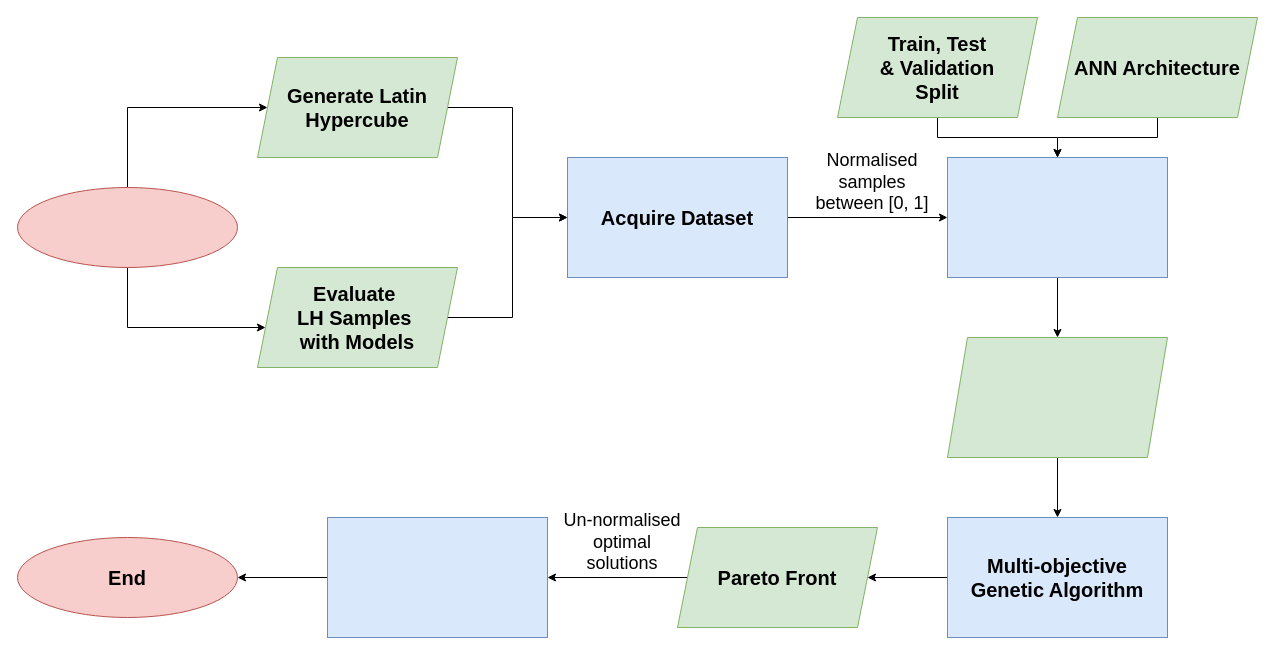
Some shapes in this 1275 by 655 pixel diagram are drawn without their labels. The shapes that lost their labels are listed below. From the top down, each one's centre as x and y in pixels, then its label:
At [127,227]: "Start".
At [1057,217]: "ANN Training".
At [1057,397]: "Trained Surrogate Model".
At [437,577]: "Compare obtained values with original model".
